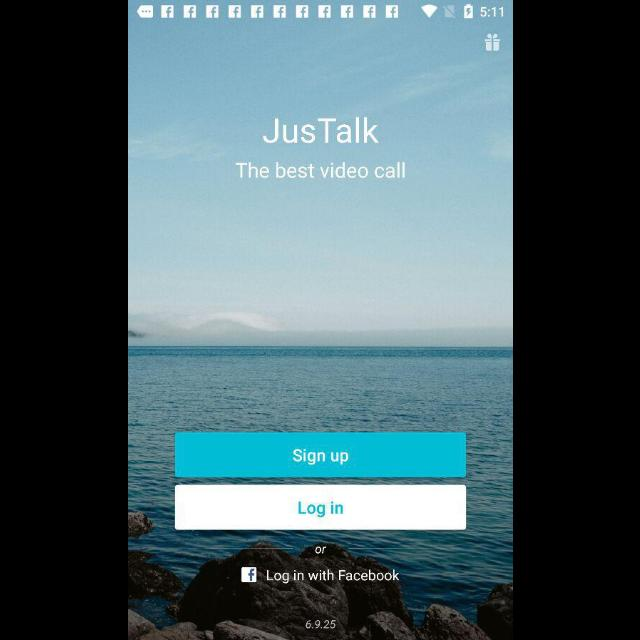backgroundimage: (128, 21, 512, 640)
icon: (484, 34, 501, 52), (240, 567, 256, 583)
text: (236, 162, 404, 180), (262, 118, 378, 144), (266, 570, 399, 584), (305, 620, 335, 628), (315, 546, 327, 554)
textbutton: (174, 432, 466, 478), (174, 485, 466, 531)
uppertaskbar: (128, 2, 512, 20)
